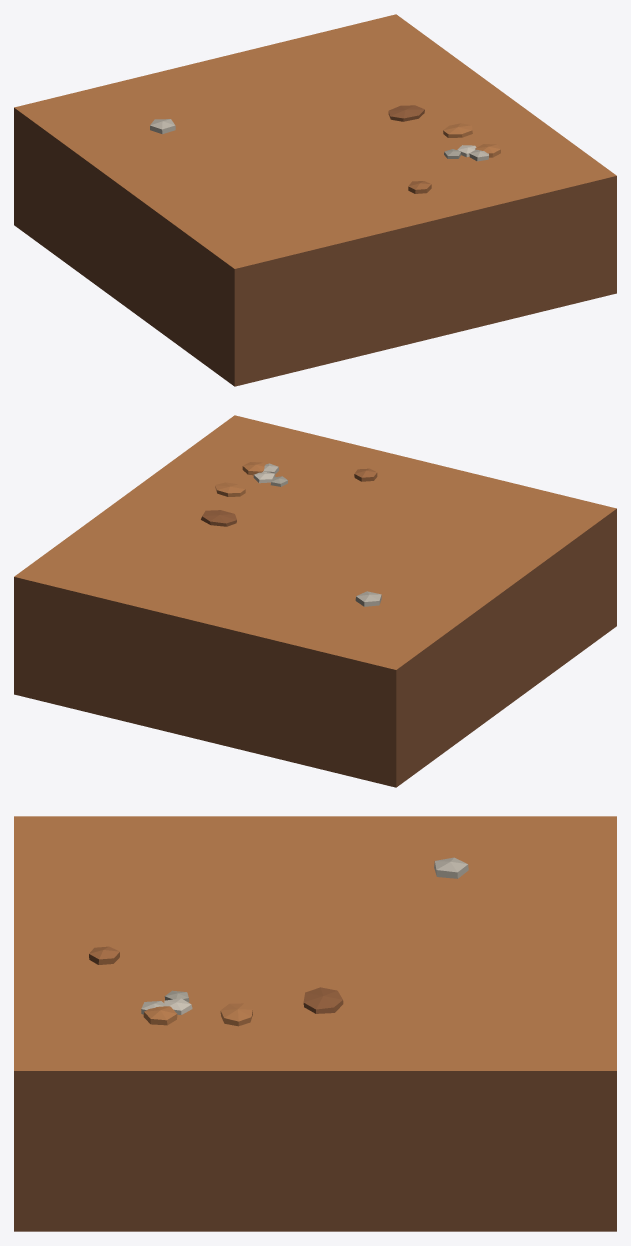
The model's file is tile_dirt.glb.
3 renders of one model, top to bottom at view 1: azimuth 30°, elevation 25°; view 2: azimuth 150°, elevation 25°; view 3: azimuth 270°, elevation 25°, orthographic. The views are drawn at different scales.
Visible parts, largest first — view 1: dirt_cap, dirt_body; view 2: dirt_cap, dirt_body; view 3: dirt_cap, dirt_body, dirt_clod_11, dirt_clod_12, dirt_stone.
Boxes of the visible parts, x1,y1,x2,y2 form: dirt_cap: (14,14,616,281); dirt_body: (14,121,616,386); dirt_cap: (14,415,616,682); dirt_body: (14,522,616,787); dirt_cap: (14,816,616,1088); dirt_body: (14,1088,616,1231); dirt_clod_11: (303,987,343,1013); dirt_clod_12: (220,1003,252,1026); dirt_stone: (434,857,468,878).
Size of what is drawn, in the model's own units: 1.7 by 0.54 by 1.7.
